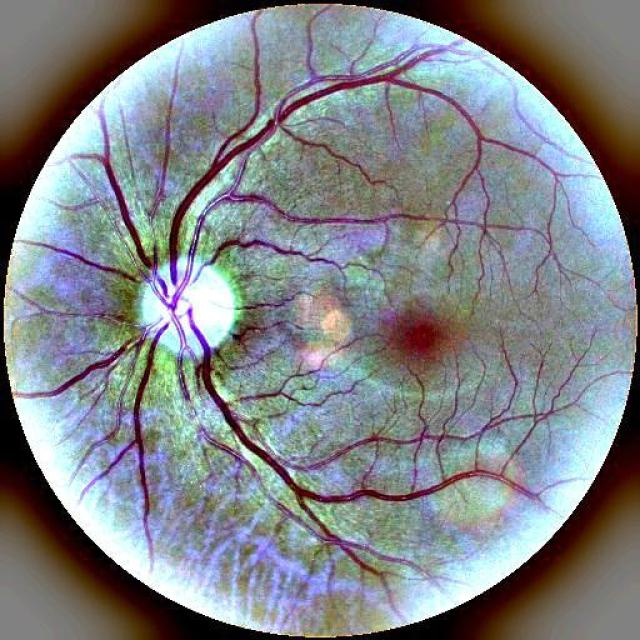Macula: (382, 312, 458, 365)
Nerves: (169, 50, 439, 260), (186, 304, 268, 459), (205, 186, 426, 222), (15, 340, 130, 395), (101, 144, 152, 268), (176, 256, 238, 358), (27, 238, 139, 280), (446, 98, 482, 162), (140, 291, 179, 350), (134, 342, 154, 450), (275, 206, 386, 222), (207, 237, 268, 262), (269, 245, 301, 254)
Optic Disk: (140, 258, 234, 353)
